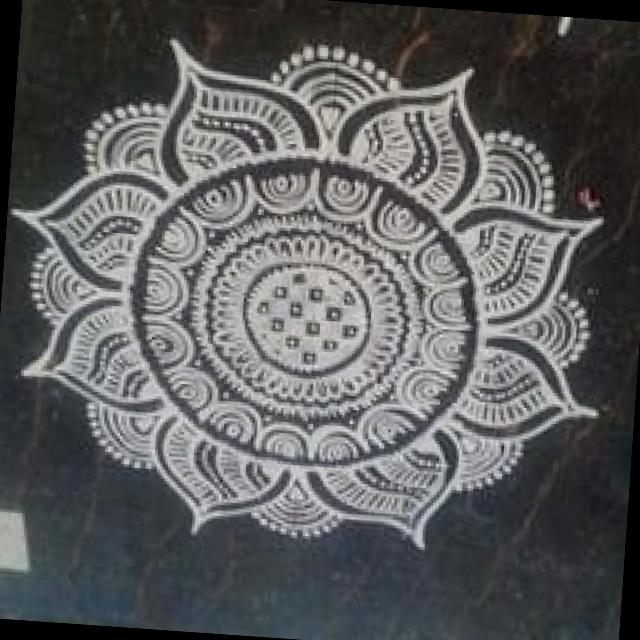rangoli: (0, 26, 638, 582)
